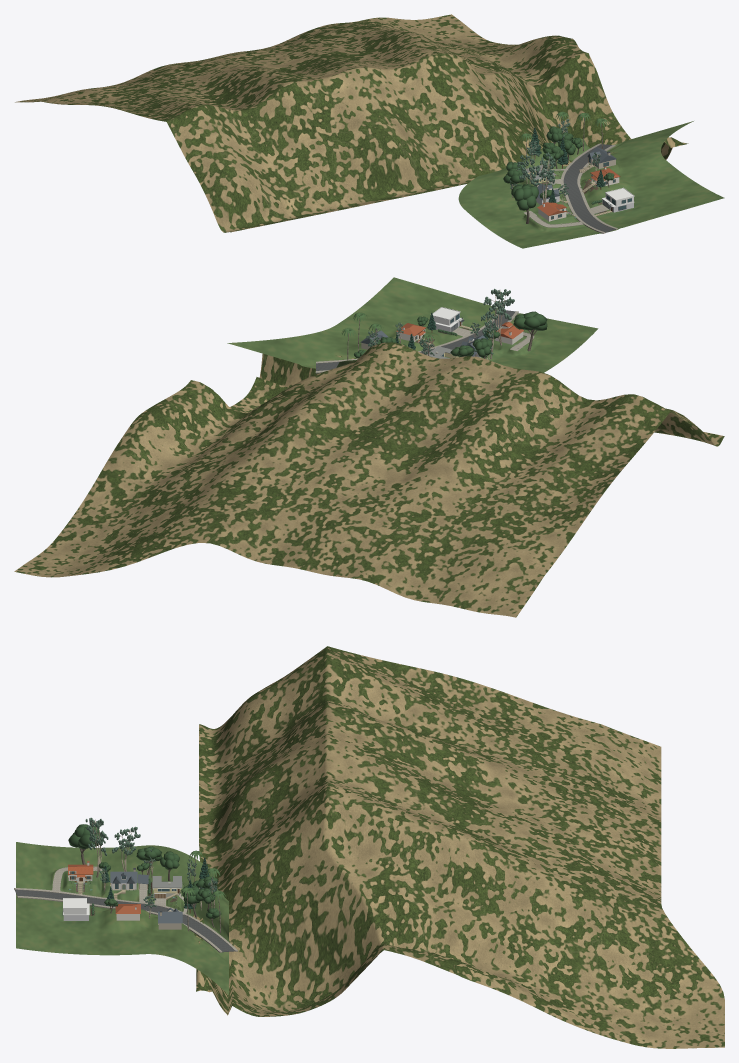
The model's file is LA-hills-web-v2.glb.
3 views of the same model, one above another, from view 1: azimuth 30°, elevation 25°; view 2: azimuth 150°, elevation 25°; view 3: azimuth 270°, elevation 25° (orthographic). The views are drawn at different scales.
Parts seen in each view (by area): view 1: terrain_hill_bg, Terrain_Hillside_120x100m, Road_Carriageway_7m, Tree_Far_12_Oak, Tree_Far_05_Eucalyptus; view 2: terrain_hill_bg, Terrain_Hillside_120x100m, Tree_Far_05_Eucalyptus, Tree_Far_12_Oak, Road_Carriageway_7m; view 3: terrain_hill_bg, Terrain_Hillside_120x100m, Road_Carriageway_7m.
Boxes of the visible parts, x1,y1,x2,y2 form: terrain_hill_bg: [15, 14, 688, 232]; Terrain_Hillside_120x100m: [458, 121, 724, 248]; Road_Carriageway_7m: [563, 144, 615, 232]; Tree_Far_12_Oak: [511, 184, 538, 223]; Tree_Far_05_Eucalyptus: [535, 152, 555, 202]; terrain_hill_bg: [14, 342, 724, 617]; Terrain_Hillside_120x100m: [227, 277, 598, 372]; Tree_Far_05_Eucalyptus: [483, 288, 514, 345]; Tree_Far_12_Oak: [513, 311, 547, 351]; Road_Carriageway_7m: [316, 310, 515, 370]; terrain_hill_bg: [193, 646, 724, 1048]; Terrain_Hillside_120x100m: [16, 842, 228, 994]; Road_Carriageway_7m: [15, 889, 234, 952].
Bounding box in the file's own units: 287 × 84.07 × 334.
41 materials, 7 textured.
